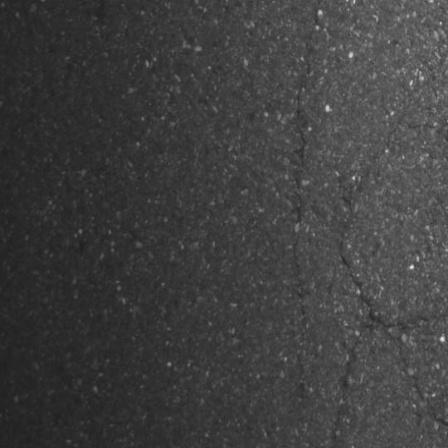crack: (289, 0, 448, 404)
